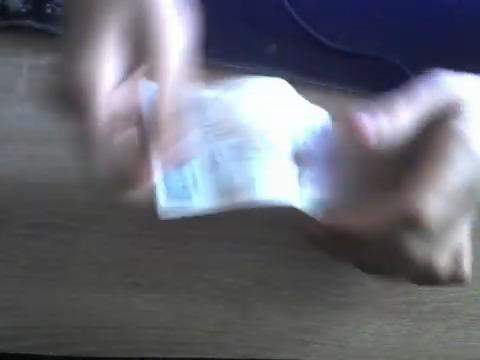20leva: (144, 63, 371, 229)
